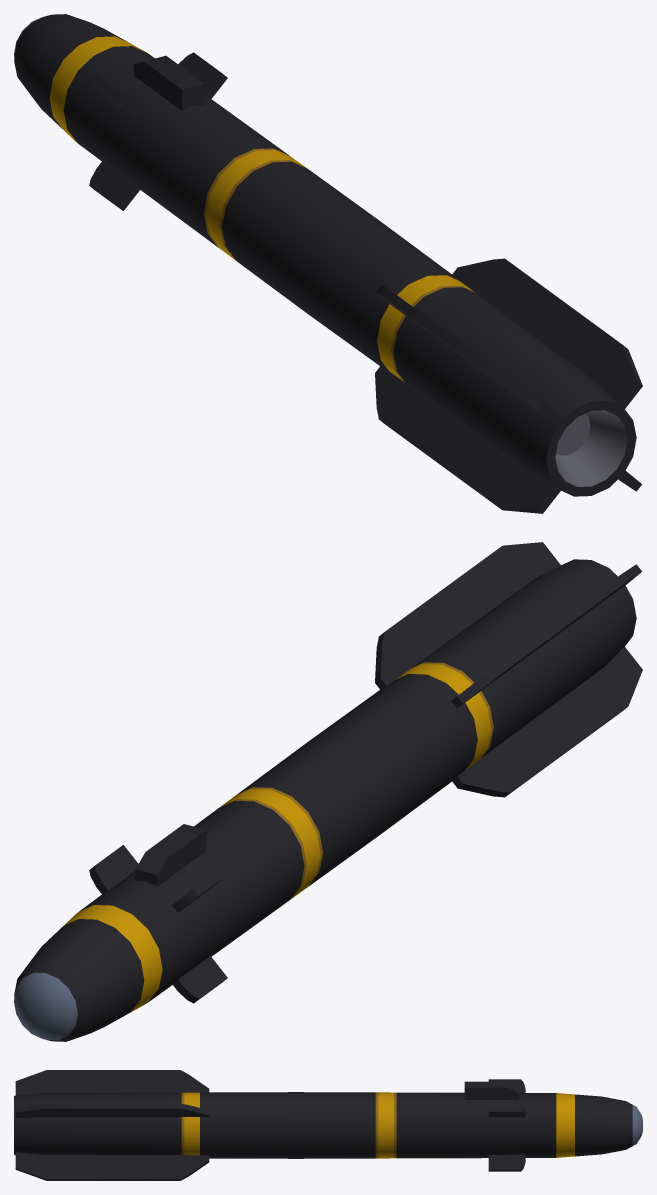
The model's file is hellfire.glb.
3 views of the same model, one above another, from view 1: azimuth 30°, elevation 25°; view 2: azimuth 150°, elevation 25°; view 3: azimuth 270°, elevation 25° (orthographic). The views are drawn at different scales.
Parts seen in each view (by area): view 1: hellfire; view 2: hellfire; view 3: hellfire.
Boxes of the visible parts, x1,y1,x2,y2 form: hellfire: [14, 14, 642, 513]; hellfire: [14, 542, 642, 1041]; hellfire: [14, 1070, 642, 1180].
Size of the model in its own units: 0.2257 by 0.2302 by 1.65.
